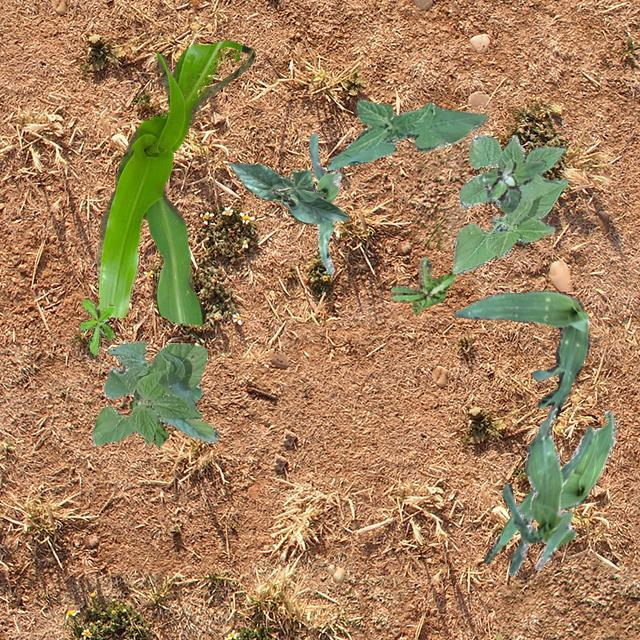crop: (94, 39, 253, 323), (484, 410, 614, 562), (452, 290, 588, 416), (451, 134, 566, 274), (500, 404, 592, 574), (90, 339, 216, 444), (326, 99, 487, 170), (228, 160, 348, 222), (308, 132, 340, 272)
weed: (390, 256, 454, 314), (476, 158, 544, 212), (128, 394, 168, 446), (78, 297, 114, 353)
